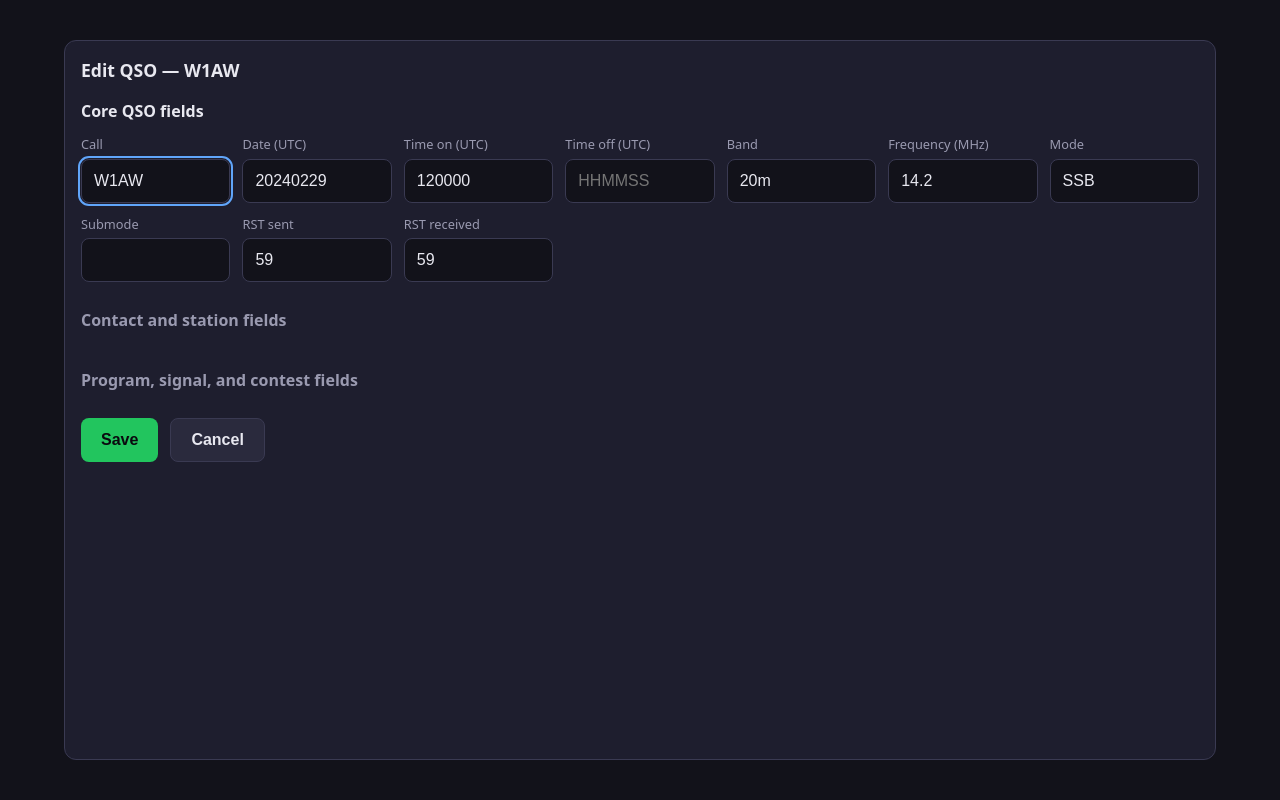
Test: EditQsoModal › prevents duplicate saves while persistence is pending
This screenshot has width=1280, height=800.
Click the button "Save" at [120, 440], box x1=81 y1=418 x2=158 y2=462
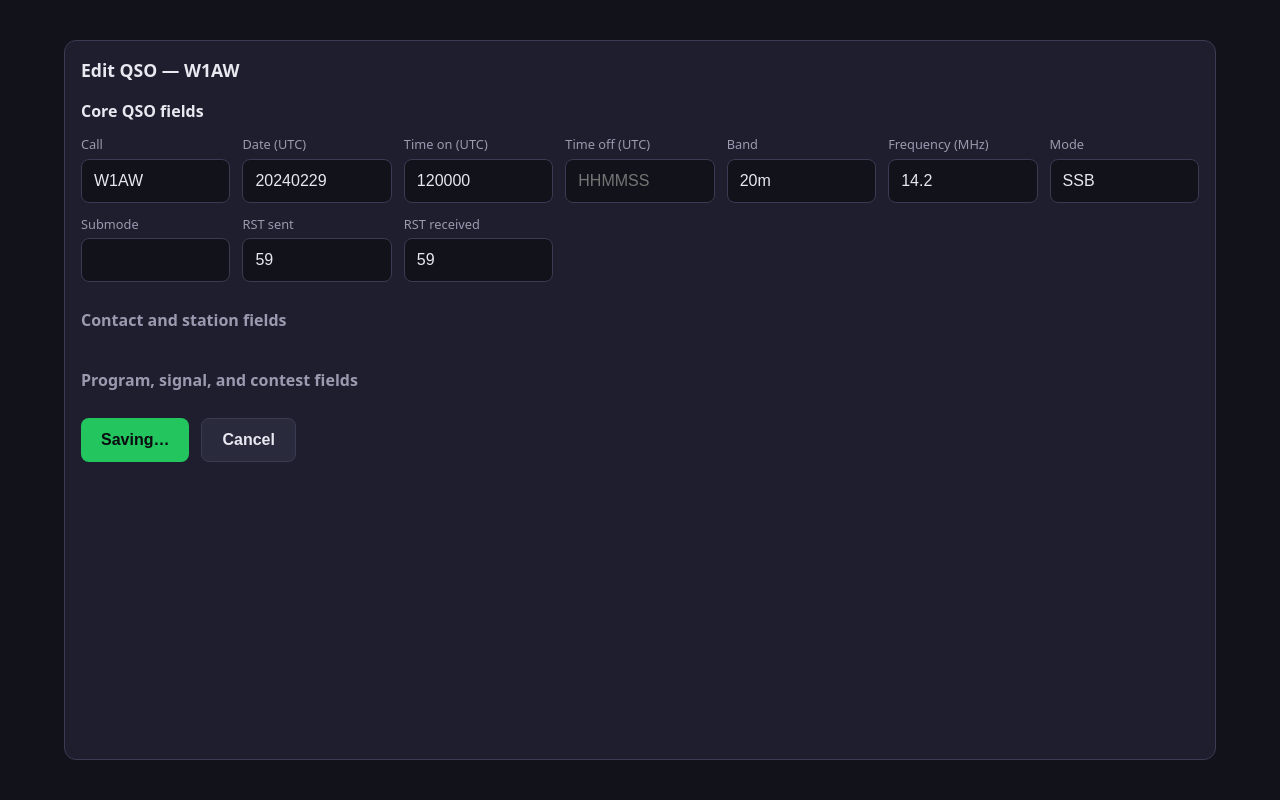
expect the button "Saving…" is disabled: met
Click the button "Saving…" at [135, 440], box x1=81 y1=418 x2=190 y2=462
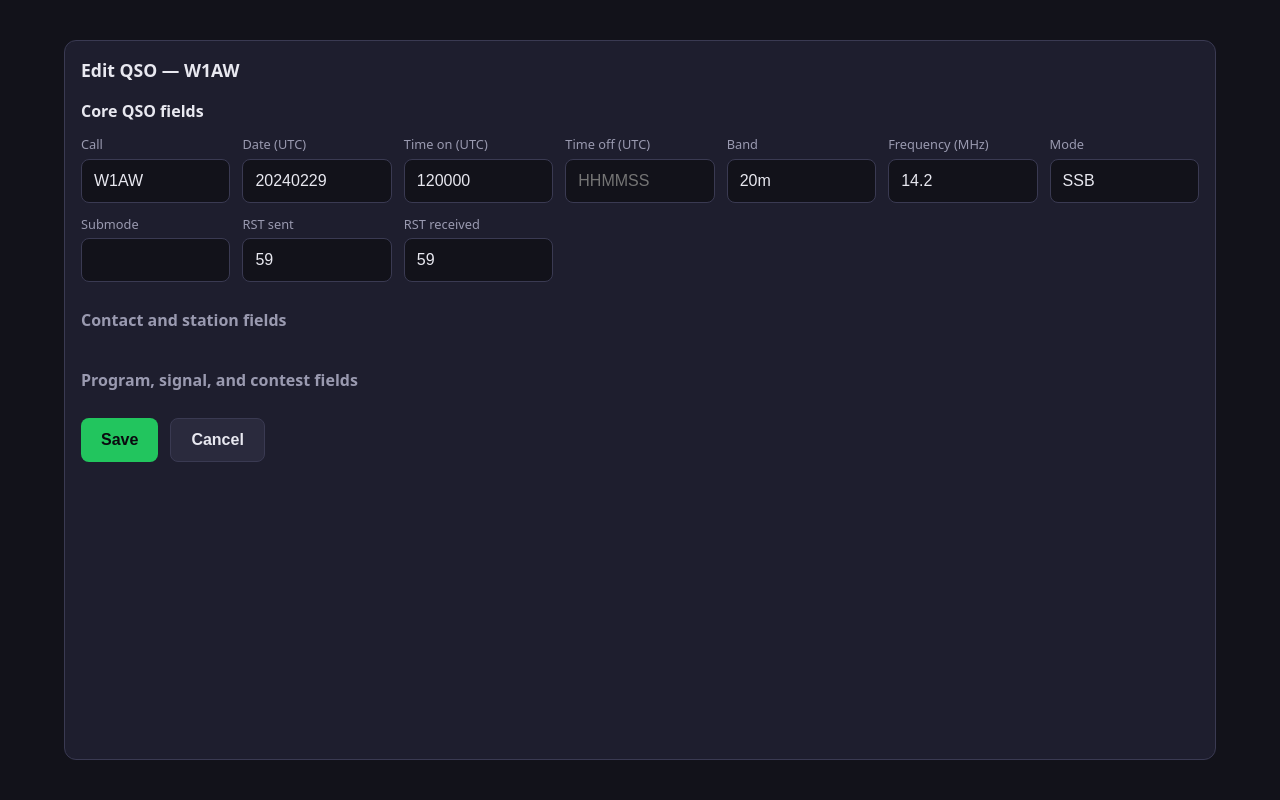
expect the button "Save" is enabled: met, box x1=81 y1=418 x2=158 y2=462
